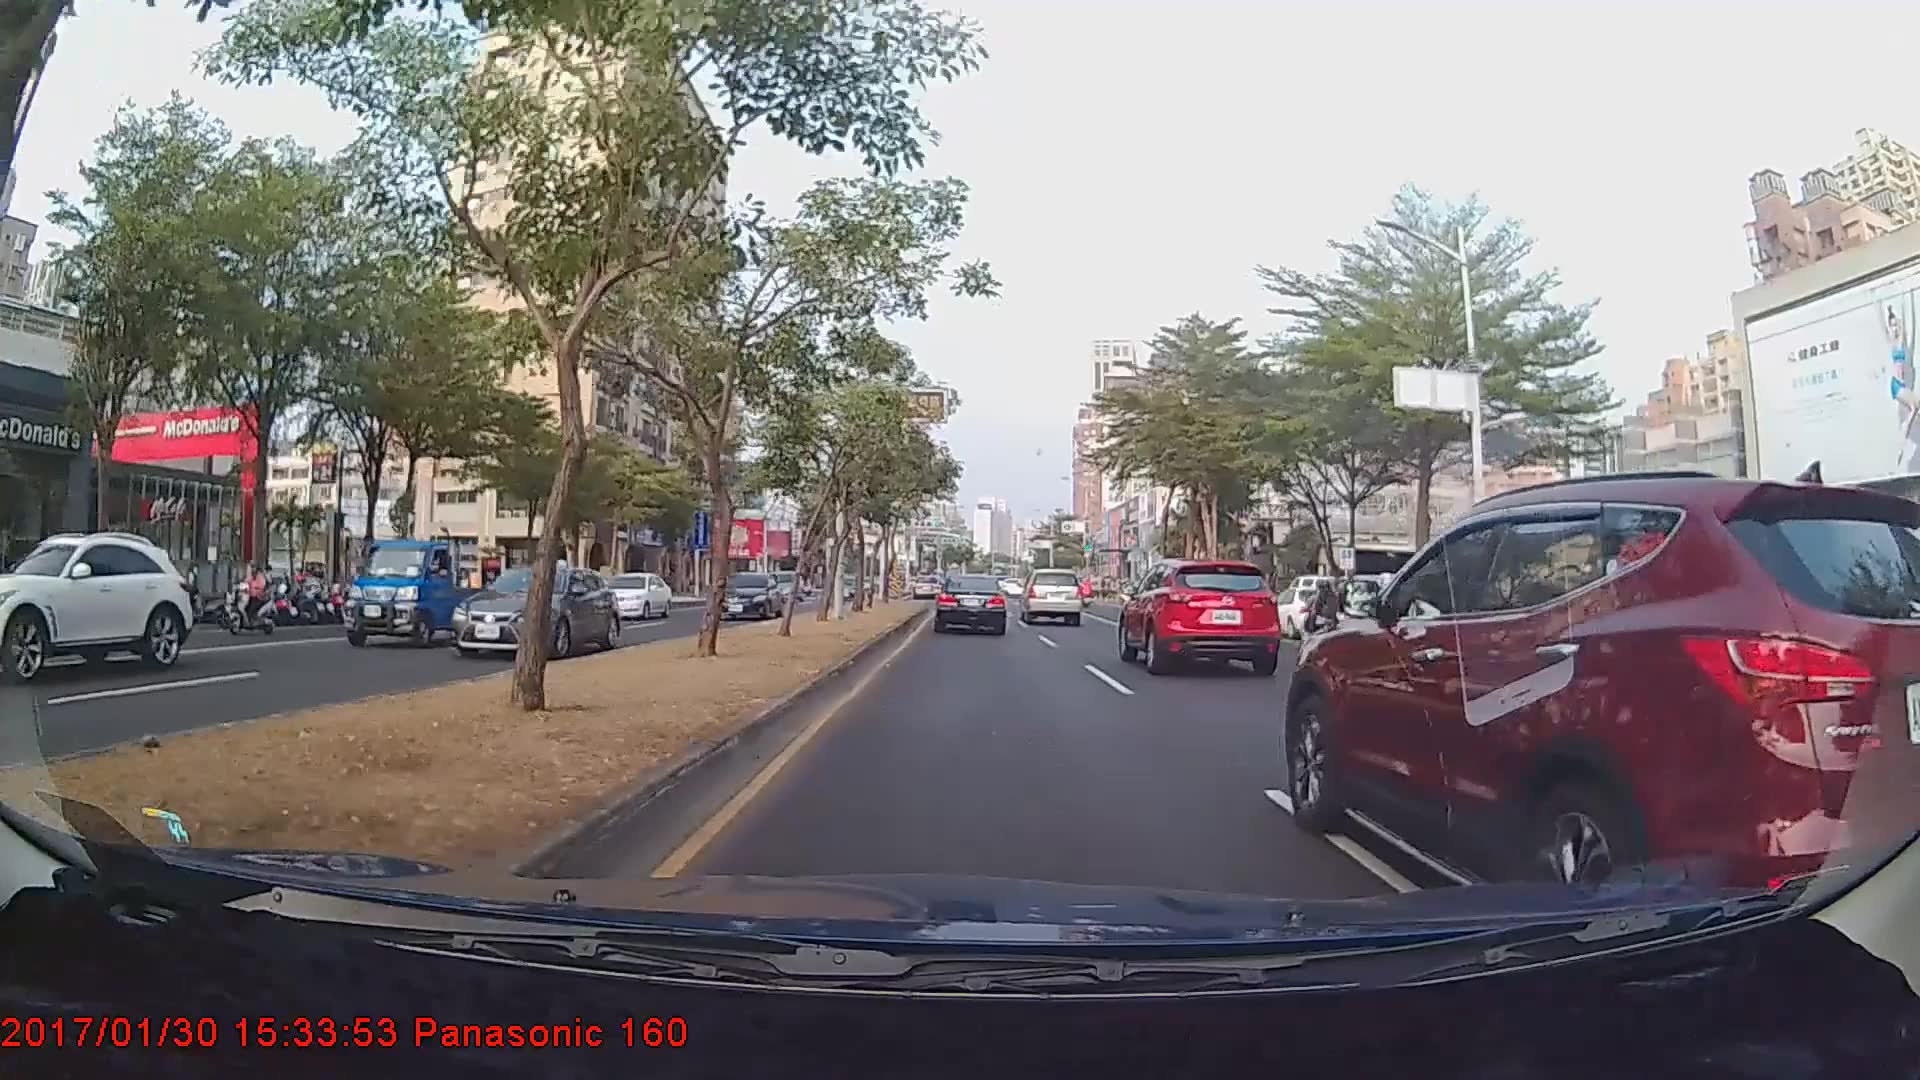rider: (226, 560, 285, 639), (1300, 586, 1351, 666)
vehicle: (1284, 473, 1918, 960), (0, 537, 193, 676), (1116, 560, 1281, 677), (336, 536, 507, 647), (441, 564, 614, 660), (1256, 584, 1351, 639), (934, 572, 1008, 635), (592, 572, 673, 620), (1020, 566, 1083, 625), (714, 571, 785, 623), (911, 574, 941, 600)
